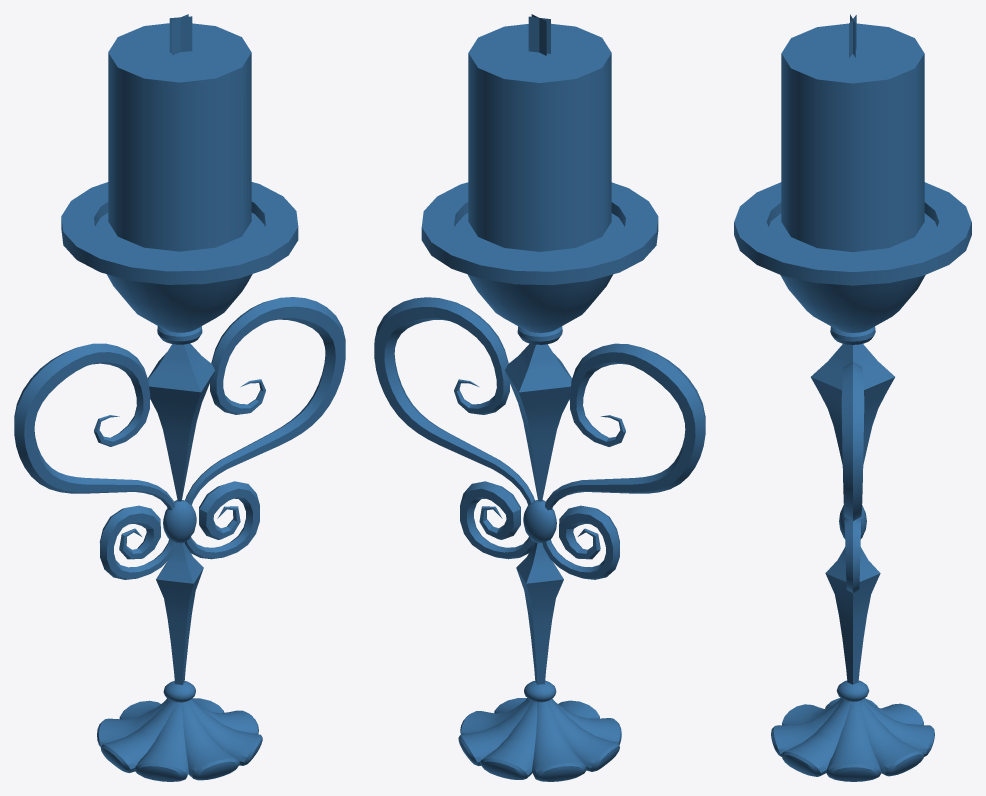
The model's file is Mesh_CandelabroMesaChico_v001.fbx.
The picture shows the model from 3 angles, left to right: view 1: azimuth 30°, elevation 25°; view 2: azimuth 150°, elevation 25°; view 3: azimuth 270°, elevation 25°; orthographic projection.
Parts seen in each view (by area): view 1: Mesh_CandelabroMesaChico_v001; view 2: Mesh_CandelabroMesaChico_v001; view 3: Mesh_CandelabroMesaChico_v001.
Part boxes in pixels (x1=…): Mesh_CandelabroMesaChico_v001: x1=14, y1=14, x2=345, y2=781; Mesh_CandelabroMesaChico_v001: x1=374, y1=14, x2=705, y2=781; Mesh_CandelabroMesaChico_v001: x1=734, y1=14, x2=971, y2=781.
Size of the model in its own units: 0.4895 by 1.04 by 0.3046.
